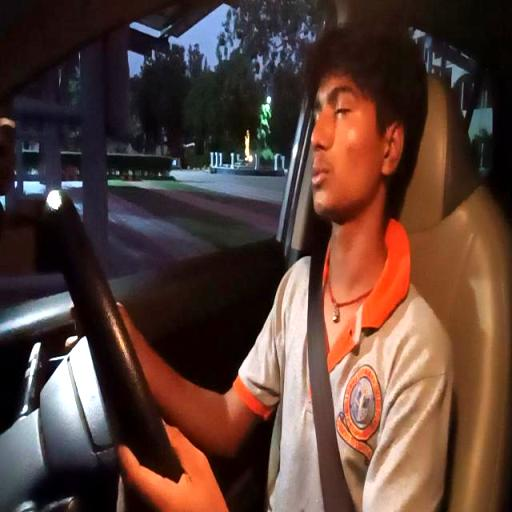sleepy: (310, 29, 422, 231)
